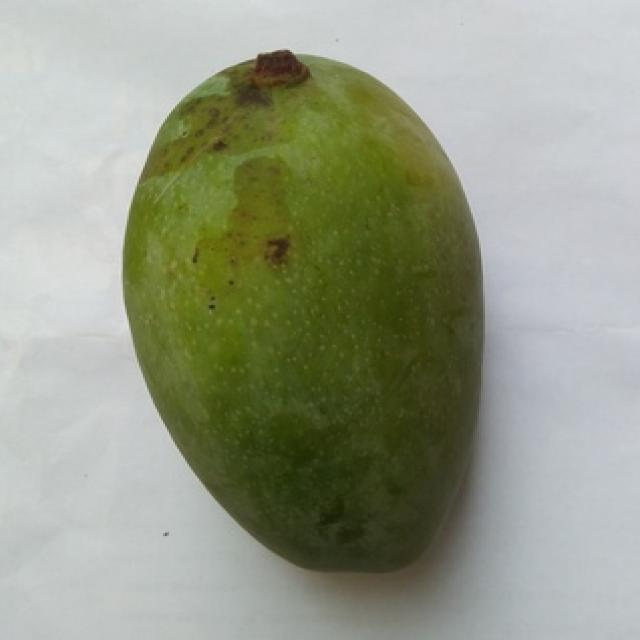Mango: (123, 50, 481, 571)
